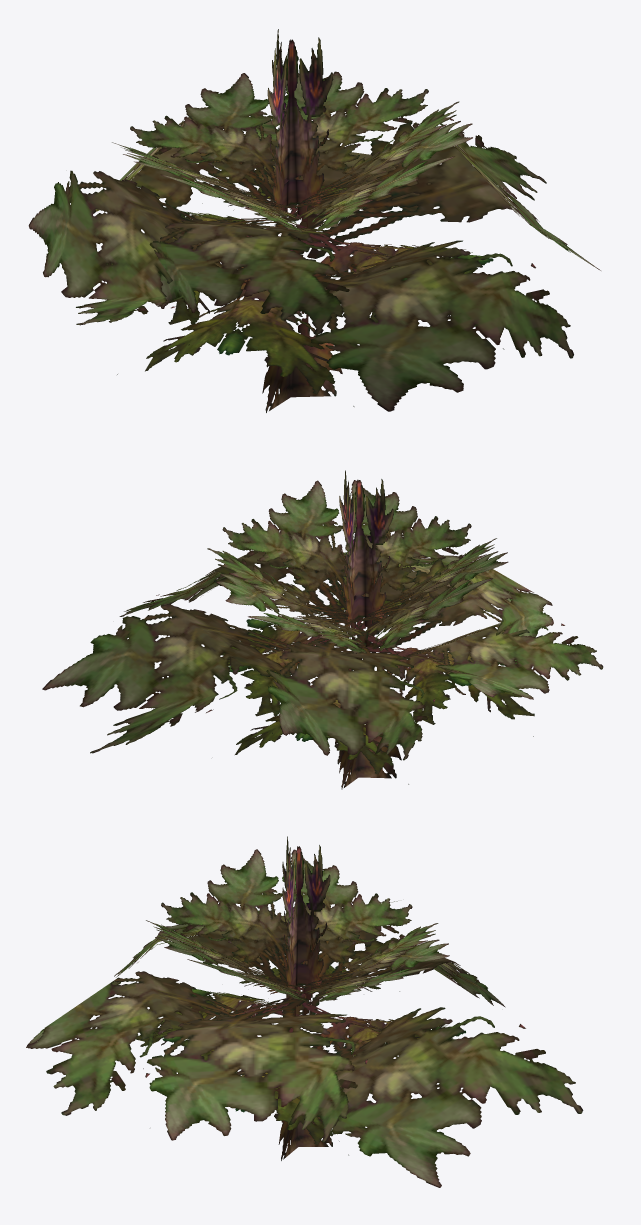
The model's file is tirisfallgladebush03.obj.
3 renders of one model, top to bottom at view 1: azimuth 30°, elevation 25°; view 2: azimuth 150°, elevation 25°; view 3: azimuth 270°, elevation 25°, orthographic. The views are drawn at different scales.
Visible parts, largest first — view 1: TIRISFALLGLADEBUSH030; view 2: TIRISFALLGLADEBUSH030; view 3: TIRISFALLGLADEBUSH030.
Part boxes in pixels (x1,y1,x2,y2): TIRISFALLGLADEBUSH030: [28, 29, 600, 412]; TIRISFALLGLADEBUSH030: [42, 470, 603, 789]; TIRISFALLGLADEBUSH030: [26, 836, 583, 1187].
Size of the model in its own units: 2.98 by 1.73 by 3.14.
Materials: 1 (1 with a texture image).
